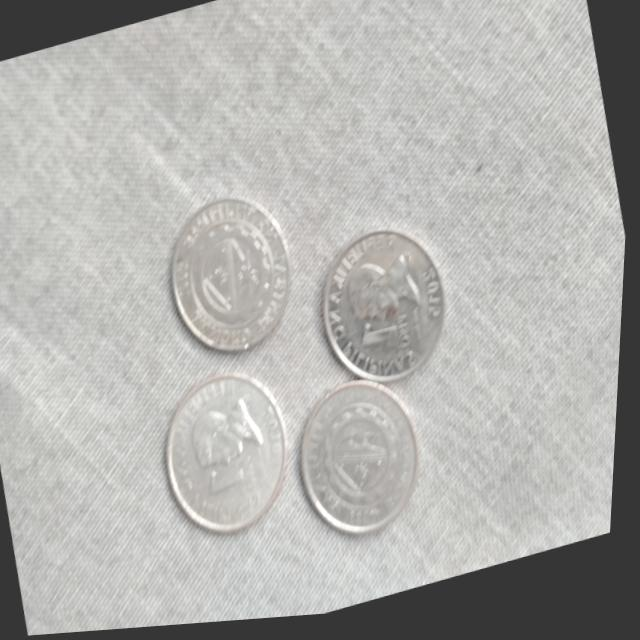1_Old_Back: (307, 391, 424, 534)
